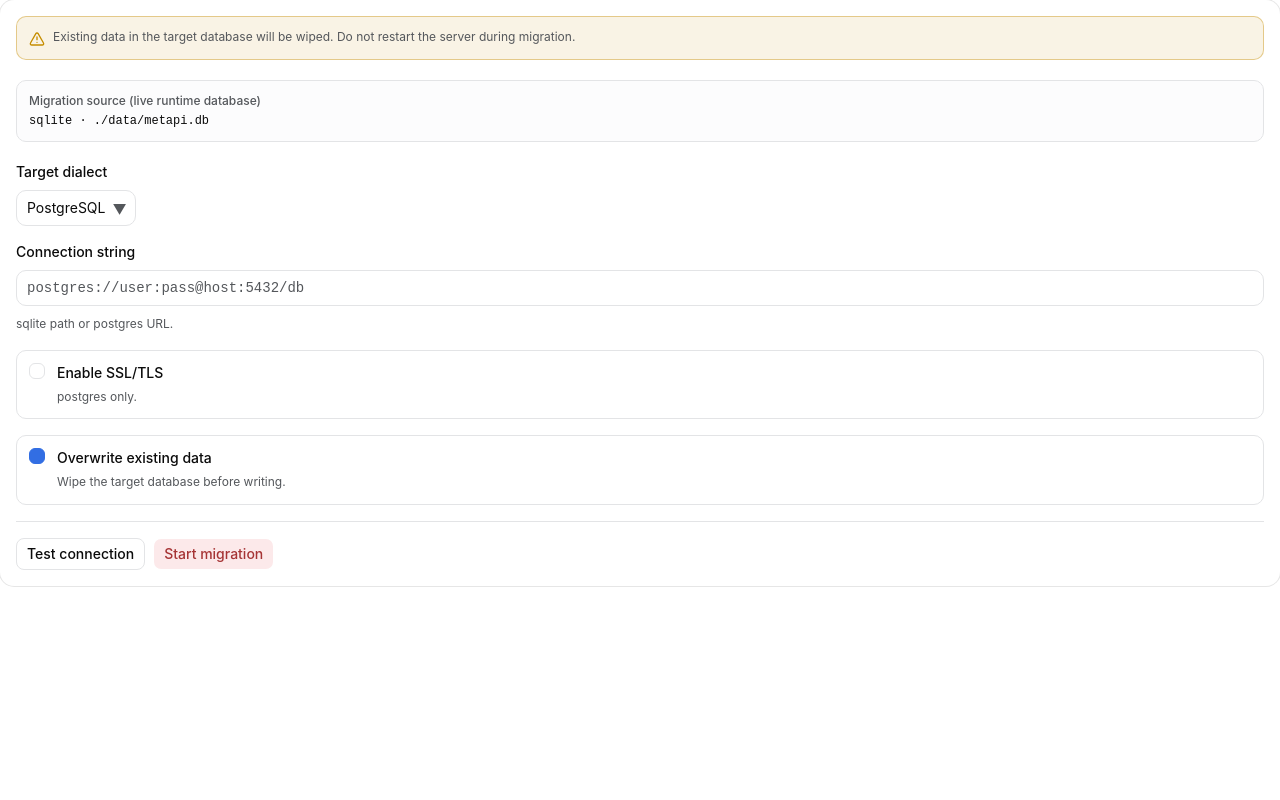
DatabaseMigrationSection — form and confirm flow › rejects testing without a connection string
Step 1. Click the button "Test connection" → (81, 554), box [16,538,145,570]
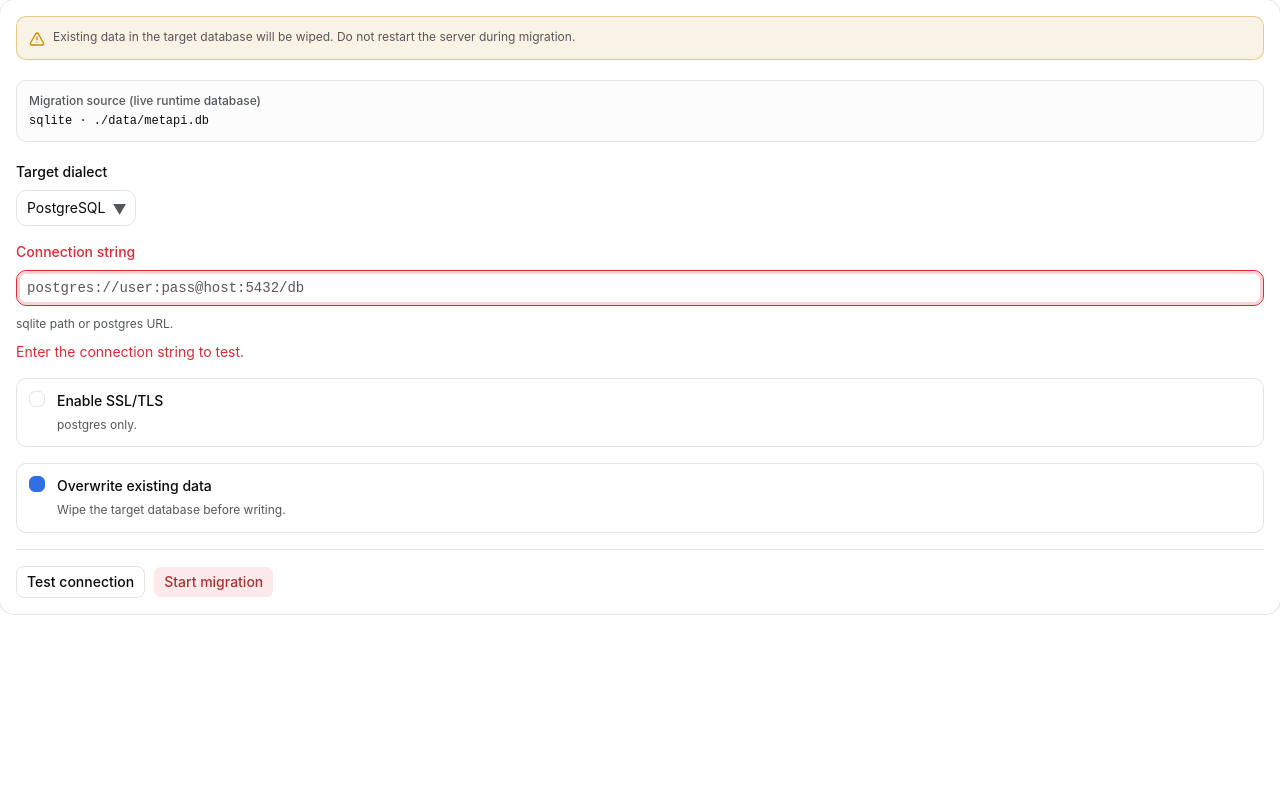
Now the text "Enter the connection string to test." is shown, box [16,342,244,360]
